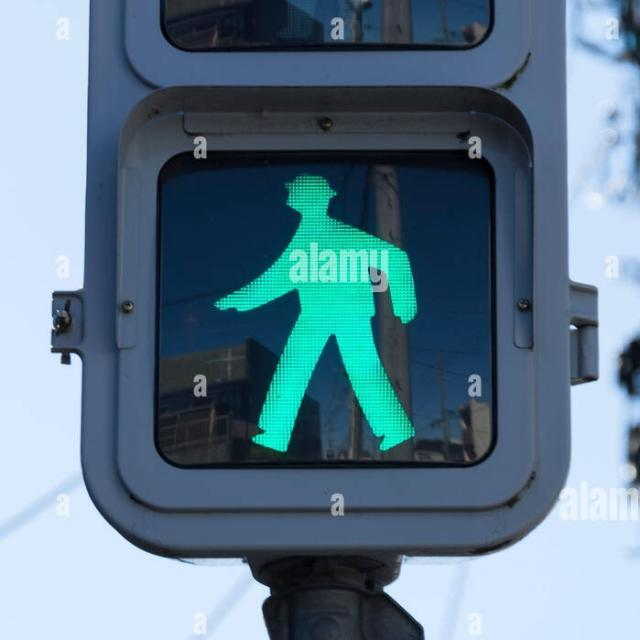green-light: (220, 167, 436, 460)
